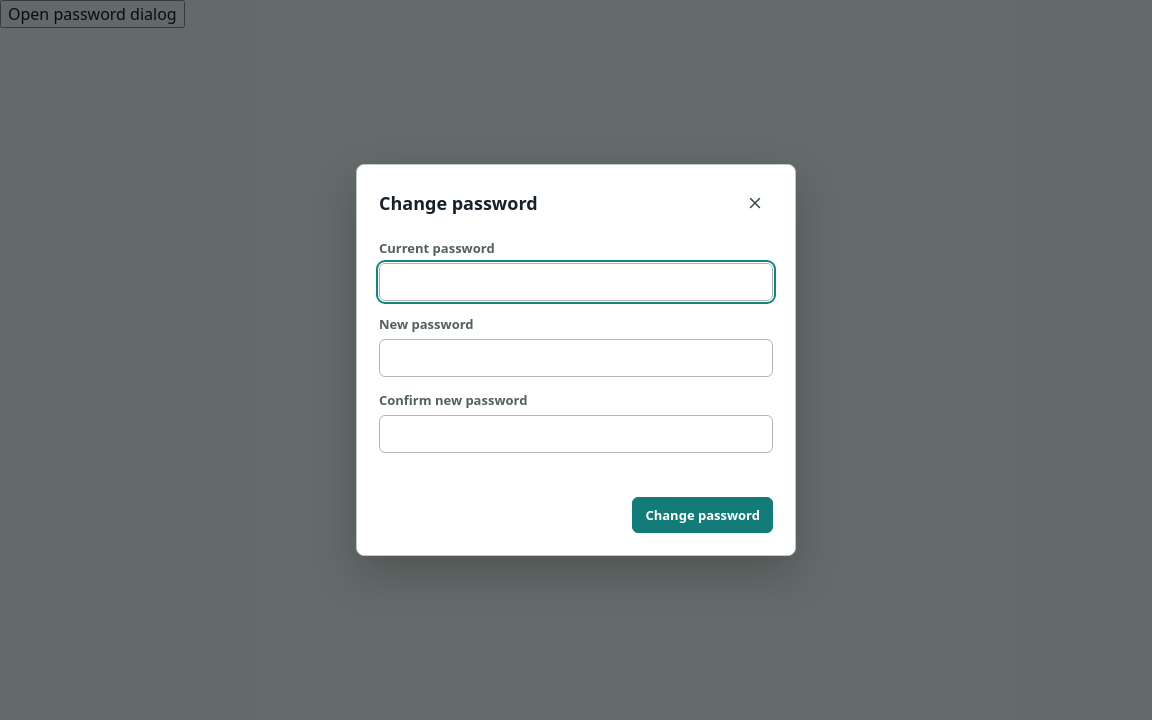
Test: ChangePasswordDialog › submits exact values once and disables conflicting controls while pending
Type "CurrentPass9!" into the password field labelled "Current password" at (576, 282), box [379, 263, 773, 301]
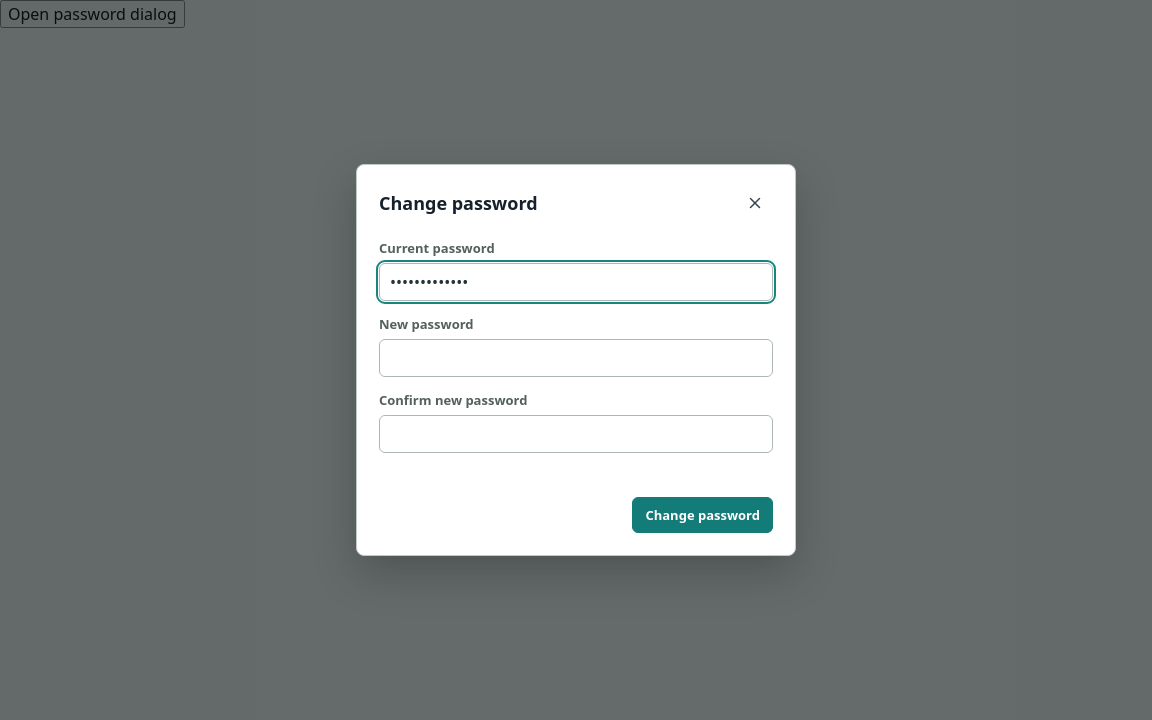
Type "ReplacementPass9!" into the password field labelled "New password" at (576, 358), box [379, 339, 773, 377]
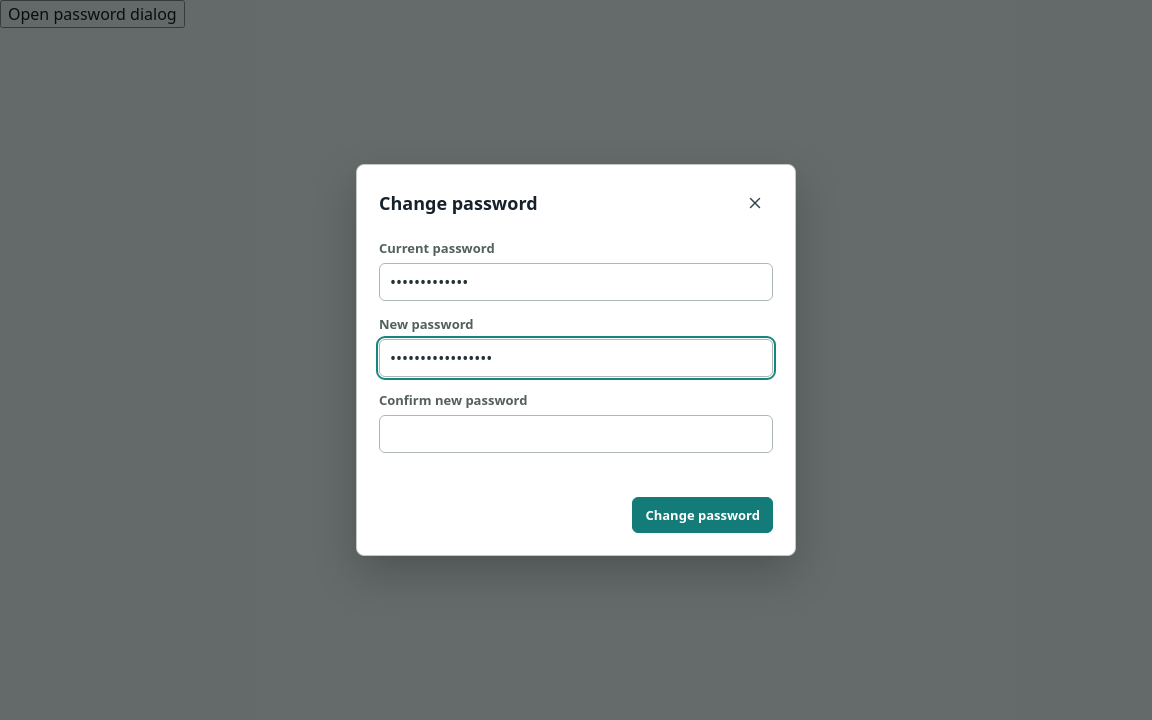
Type "ReplacementPass9!" into the password field labelled "Confirm new password" at (576, 434), box [379, 415, 773, 453]
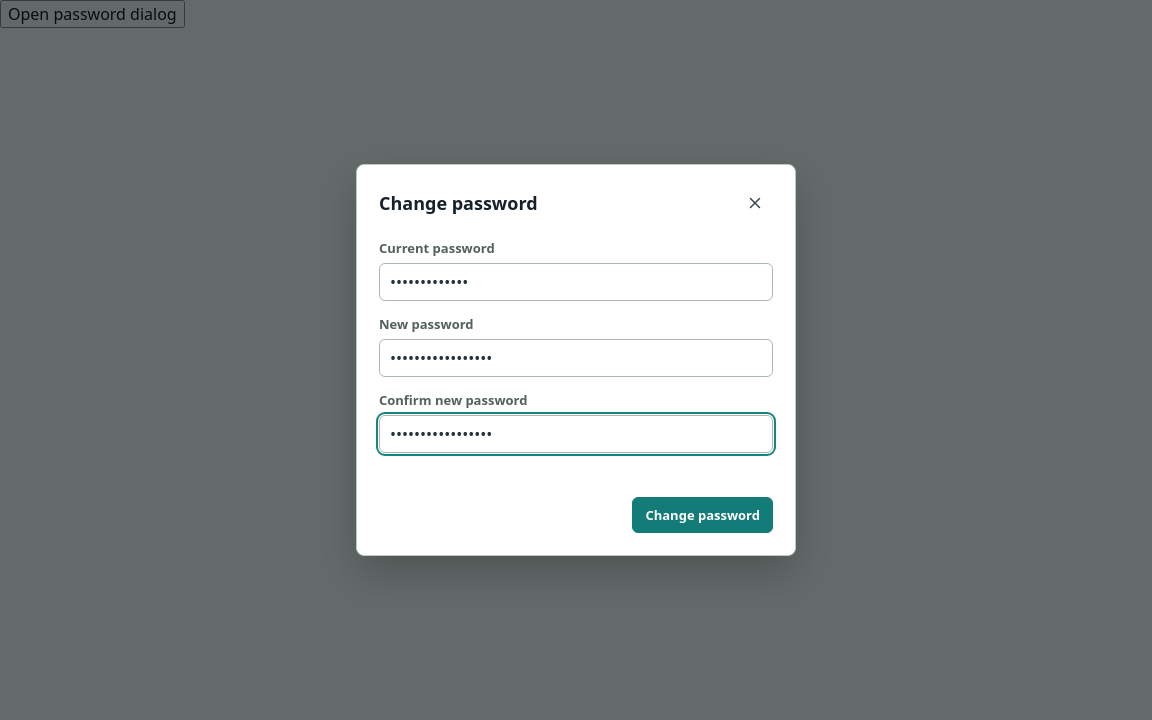
Click the button "Change password" at (703, 515), box [632, 497, 773, 533]
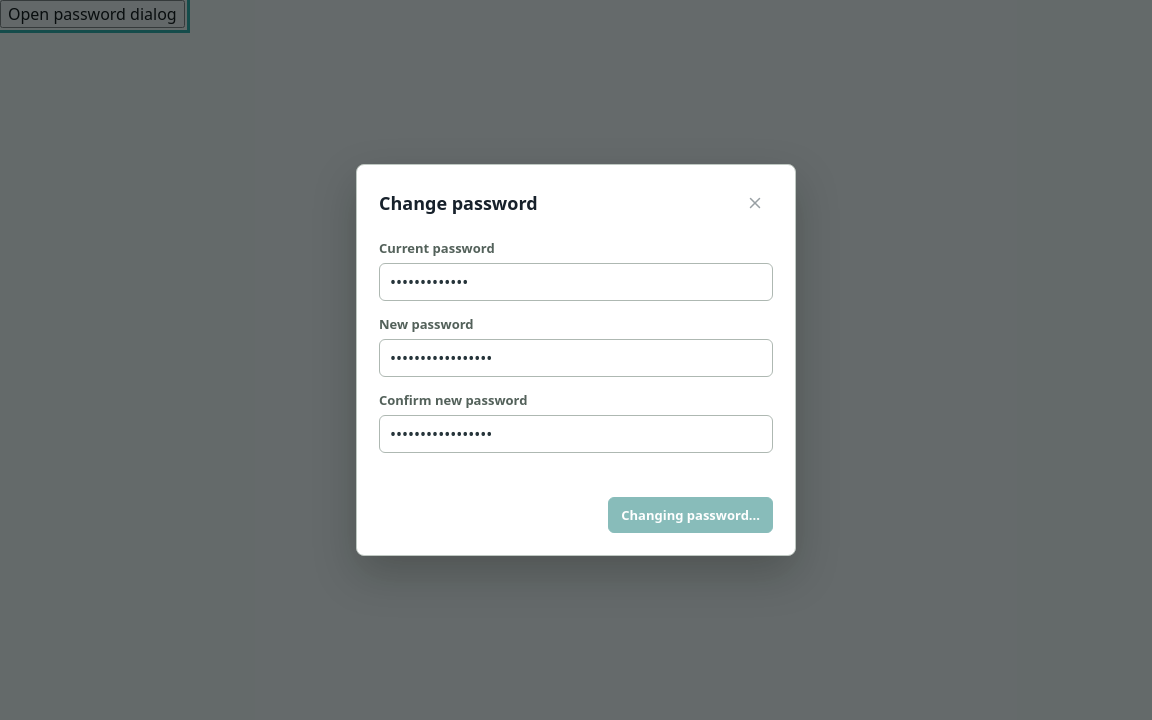
Expected: the password field labelled "Current password" is disabled, [379, 263, 773, 301]
Expected: the button "Changing password..." is disabled, [608, 497, 773, 533]
Expected: the button named "Close change password dialog" is disabled, [737, 185, 773, 221]
